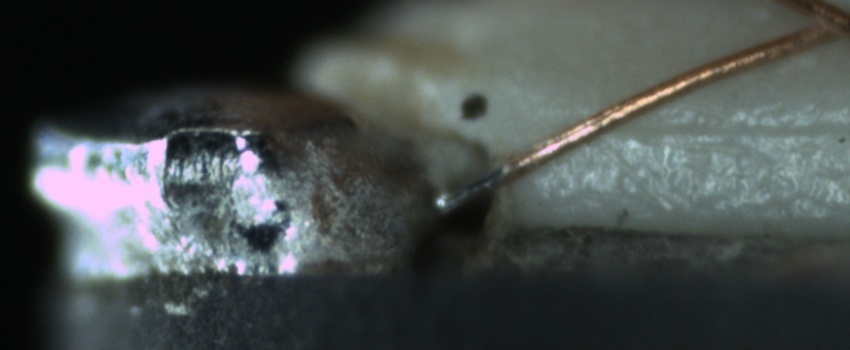CL: (777, 1, 848, 47)
DL: (573, 96, 846, 162)
TS: (426, 162, 505, 216)
